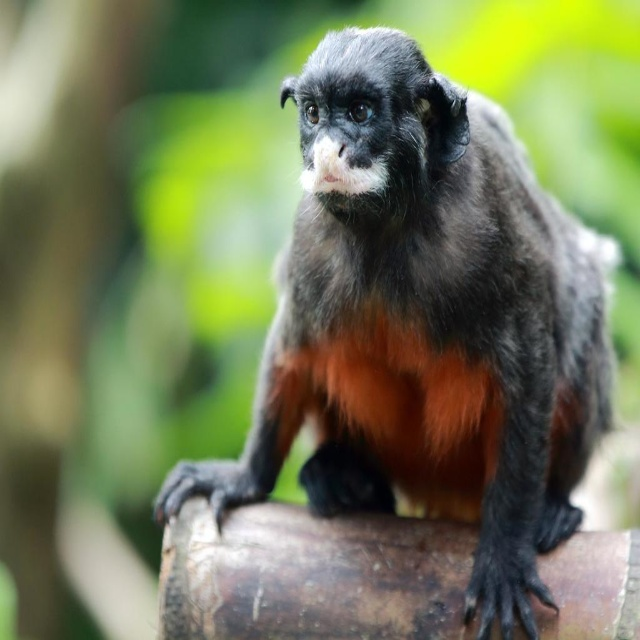Monkey: (151, 23, 625, 640)
